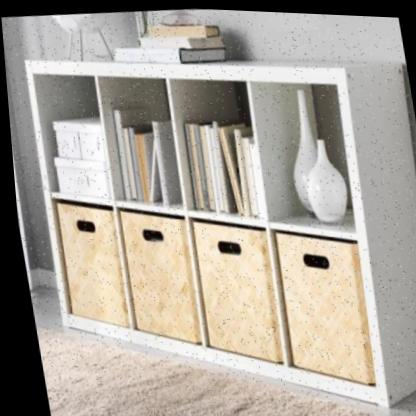Shelf: (6, 21, 416, 416)
